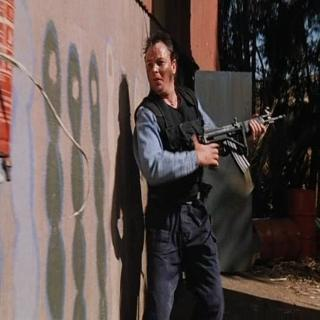gun: (175, 101, 292, 194)
